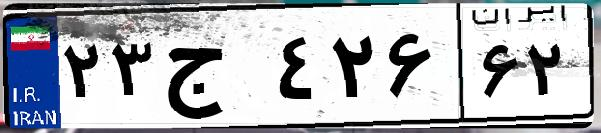2: (330, 28, 385, 110), (57, 26, 110, 100), (525, 38, 570, 115)
3: (110, 28, 158, 98)
4: (270, 28, 330, 110)
6: (385, 28, 445, 110), (475, 38, 525, 113)
ج: (158, 20, 270, 120)
